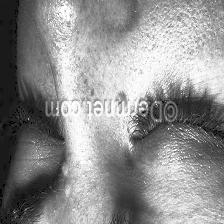Toxin: (59, 160, 71, 198), (114, 90, 128, 106)
